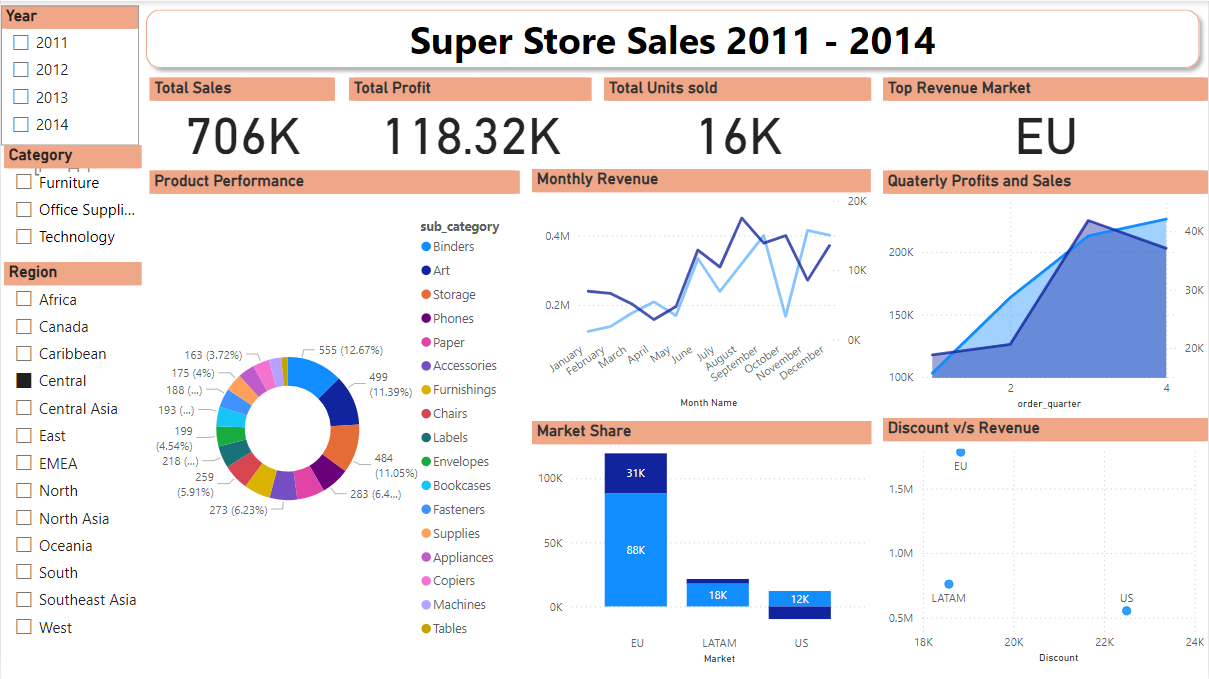

The page's visual inventory and layout, read from the dashboard file:
{"tool":"powerbi","page":{"name":"Page 1","canvas":[1280,720],"ordinal":0},"visuals":[{"type":"shape","box":[145,0,1135,80],"z":0},{"type":"slicer","title":"Year","fields":{"Values":["New_superstore_Project1.year"]},"box":[0,5,146,147.5],"z":2000},{"type":"slicer","title":"Category","fields":{"Values":["New_superstore_Project1.category"]},"box":[2.5,152.5,146,125],"z":3000},{"type":"slicer","title":"Region","fields":{"Values":["New_superstore_Project1.region"]},"box":[2.5,277.5,146,430],"z":4000},{"type":"card","title":"Total Sales","fields":{"Values":["Measurement Table.Total Sales"]},"box":[158,81,196.5,91.1],"z":5000},{"type":"card","title":"Top Revenue Market","fields":{"Values":["Min(New_superstore_Project1.market)"]},"box":[935.3,81.1,345.2,90.7],"z":6000},{"type":"lineChart","title":"Monthly Revenue","fields":{"Y":["Sum(New_superstore_Project1.revenue)"],"Category":["New_superstore_Project1.Month Name"],"Y2":["Sum(New_superstore_Project1.profit)"]},"box":[563.1,178.1,359.5,257.7],"z":7000},{"type":"donutChart","title":"Product Performance","fields":{"Category":["New_superstore_Project1.sub_category"],"Y":["CountNonNull(New_superstore_Project1.product_id)"]},"box":[157.5,180,392.5,527.5],"z":8000},{"type":"columnChart","title":"Market Share","fields":{"Y":["Sum(New_superstore_Project1.profit)","Sum(New_superstore_Project1.profit_margin)"],"Category":["New_superstore_Project1.market"]},"box":[562.5,445,360,262.5],"z":9000},{"type":"scatterChart","title":"Discount v/s Revenue","fields":{"X":["Sum(New_superstore_Project1.discount_percent)"],"Y":["Sum(New_superstore_Project1.total_revenue)"],"Category":["New_superstore_Project1.market"]},"box":[935.3,442.2,345.2,264],"z":10000},{"type":"areaChart","title":"Quaterly Profits and Sales","fields":{"Category":["New_superstore_Project1.order_quarter"],"Y":["Sum(New_superstore_Project1.sales)"],"Y2":["Sum(New_superstore_Project1.profit)"]},"box":[935,180,345,257.5],"z":11000},{"type":"card","title":"Total Profit","fields":{"Values":["Measurement Table.Total Profit"]},"box":[368.6,81,257.2,91.1],"z":12000},{"type":"card","title":"Total Units sold ","fields":{"Values":["Measurement Table.Total Quantity"]},"box":[640,81,283.5,91.1],"z":13000}]}

Visuals, with their boxes in screenshot pixels (x1, y1, x2, y2), scaled from the page's 1280x720 canvas onto the 1209x679 screenshot:
shape: {"x1": 137, "y1": 0, "x2": 1208, "y2": 75}
"Year" slicer: {"x1": 0, "y1": 5, "x2": 138, "y2": 144}
"Category" slicer: {"x1": 2, "y1": 144, "x2": 140, "y2": 262}
"Region" slicer: {"x1": 2, "y1": 262, "x2": 140, "y2": 667}
"Total Sales" card: {"x1": 149, "y1": 76, "x2": 335, "y2": 162}
"Top Revenue Market" card: {"x1": 883, "y1": 76, "x2": 1208, "y2": 162}
"Monthly Revenue" lineChart: {"x1": 532, "y1": 168, "x2": 871, "y2": 411}
"Product Performance" donutChart: {"x1": 149, "y1": 170, "x2": 519, "y2": 667}
"Market Share" columnChart: {"x1": 531, "y1": 420, "x2": 871, "y2": 667}
"Discount v/s Revenue" scatterChart: {"x1": 883, "y1": 417, "x2": 1208, "y2": 666}
"Quaterly Profits and Sales" areaChart: {"x1": 883, "y1": 170, "x2": 1208, "y2": 413}
"Total Profit" card: {"x1": 348, "y1": 76, "x2": 591, "y2": 162}
"Total Units sold " card: {"x1": 604, "y1": 76, "x2": 872, "y2": 162}
